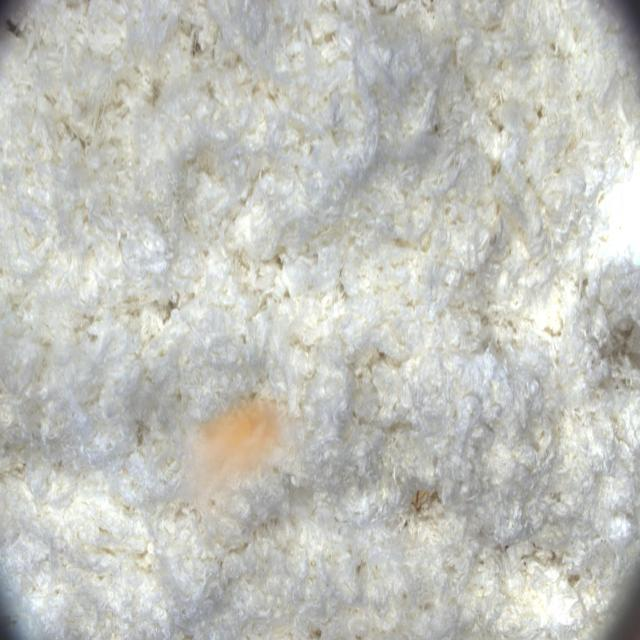dust: (169, 387, 313, 557)
